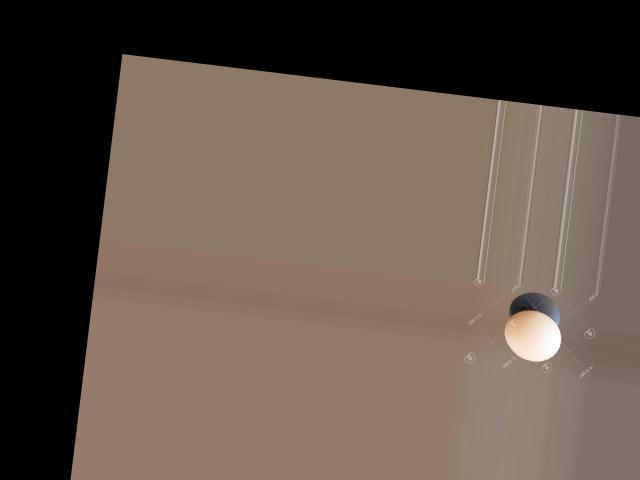egg: (501, 306, 564, 364)
